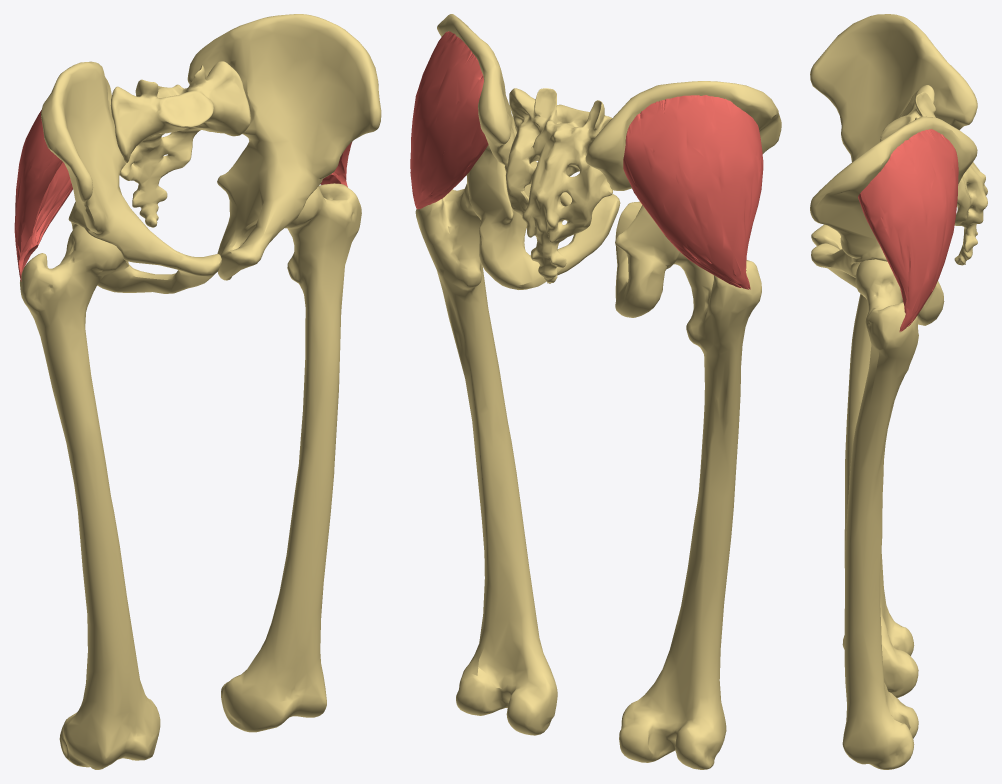
File: hip-pelvis.glb
3 views of the same model, side by side, from view 1: azimuth 30°, elevation 25°; view 2: azimuth 150°, elevation 25°; view 3: azimuth 270°, elevation 25° (orthographic). The views are drawn at different scales.
Visible parts, largest first — view 1: hip-pelvis:femur:isa:FJ3365, hip-pelvis:femur:isa:FJ3259, hip-pelvis:pelvis:partof:FJ3288, hip-pelvis:pelvis:partof:FJ3152, hip-pelvis:pelvis:partof:FJ3393, hip-pelvis:gluteus-medius:isa:FJ1419; view 2: hip-pelvis:femur:isa:FJ3259, hip-pelvis:femur:isa:FJ3365, hip-pelvis:gluteus-medius:isa:FJ1419, hip-pelvis:pelvis:partof:FJ3393, hip-pelvis:pelvis:partof:FJ3288, hip-pelvis:pelvis:partof:FJ3152, hip-pelvis:gluteus-medius:isa:FJ1419M; view 3: hip-pelvis:femur:isa:FJ3259, hip-pelvis:pelvis:partof:FJ3152, hip-pelvis:gluteus-medius:isa:FJ1419M, hip-pelvis:pelvis:partof:FJ3288, hip-pelvis:femur:isa:FJ3365, hip-pelvis:pelvis:partof:FJ3393.
Boxes of the visible parts, bbox=[...] form: hip-pelvis:femur:isa:FJ3365: bbox=[20, 225, 160, 769]; hip-pelvis:femur:isa:FJ3259: bbox=[221, 183, 361, 732]; hip-pelvis:pelvis:partof:FJ3288: bbox=[187, 14, 381, 280]; hip-pelvis:pelvis:partof:FJ3152: bbox=[41, 61, 221, 293]; hip-pelvis:pelvis:partof:FJ3393: bbox=[110, 61, 250, 227]; hip-pelvis:gluteus-medius:isa:FJ1419: bbox=[14, 110, 72, 281]; hip-pelvis:femur:isa:FJ3259: bbox=[415, 184, 557, 735]; hip-pelvis:femur:isa:FJ3365: bbox=[619, 253, 761, 769]; hip-pelvis:gluteus-medius:isa:FJ1419: bbox=[623, 95, 763, 289]; hip-pelvis:pelvis:partof:FJ3393: bbox=[504, 88, 612, 283]; hip-pelvis:pelvis:partof:FJ3288: bbox=[437, 14, 620, 289]; hip-pelvis:pelvis:partof:FJ3152: bbox=[585, 81, 781, 317]; hip-pelvis:gluteus-medius:isa:FJ1419M: bbox=[410, 31, 488, 209]; hip-pelvis:femur:isa:FJ3259: bbox=[842, 259, 918, 769]; hip-pelvis:pelvis:partof:FJ3152: bbox=[810, 14, 977, 249]; hip-pelvis:gluteus-medius:isa:FJ1419M: bbox=[858, 129, 958, 331]; hip-pelvis:pelvis:partof:FJ3288: bbox=[810, 116, 977, 325]; hip-pelvis:femur:isa:FJ3365: bbox=[842, 294, 918, 697]; hip-pelvis:pelvis:partof:FJ3393: bbox=[880, 85, 987, 265].
Size of the model in its own units: 0.3004 by 0.59 by 0.1463.
